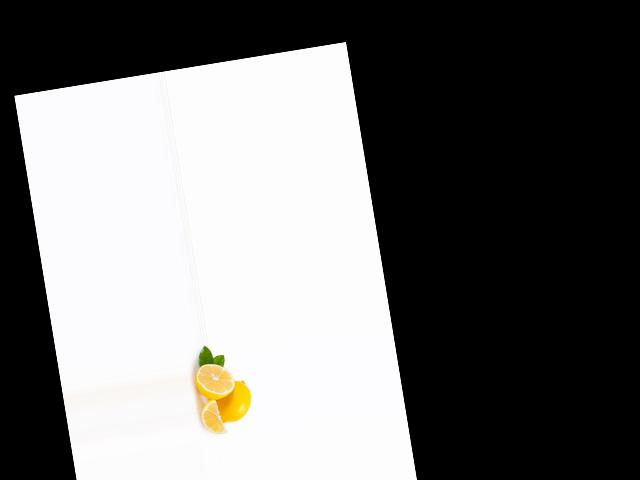lemon: (207, 376, 255, 426)
